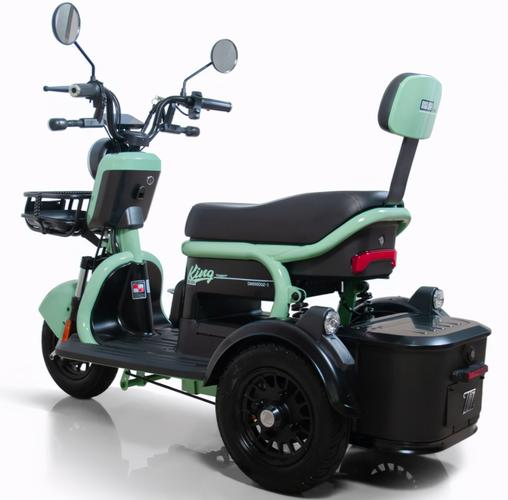empty: (17, 2, 505, 489)
